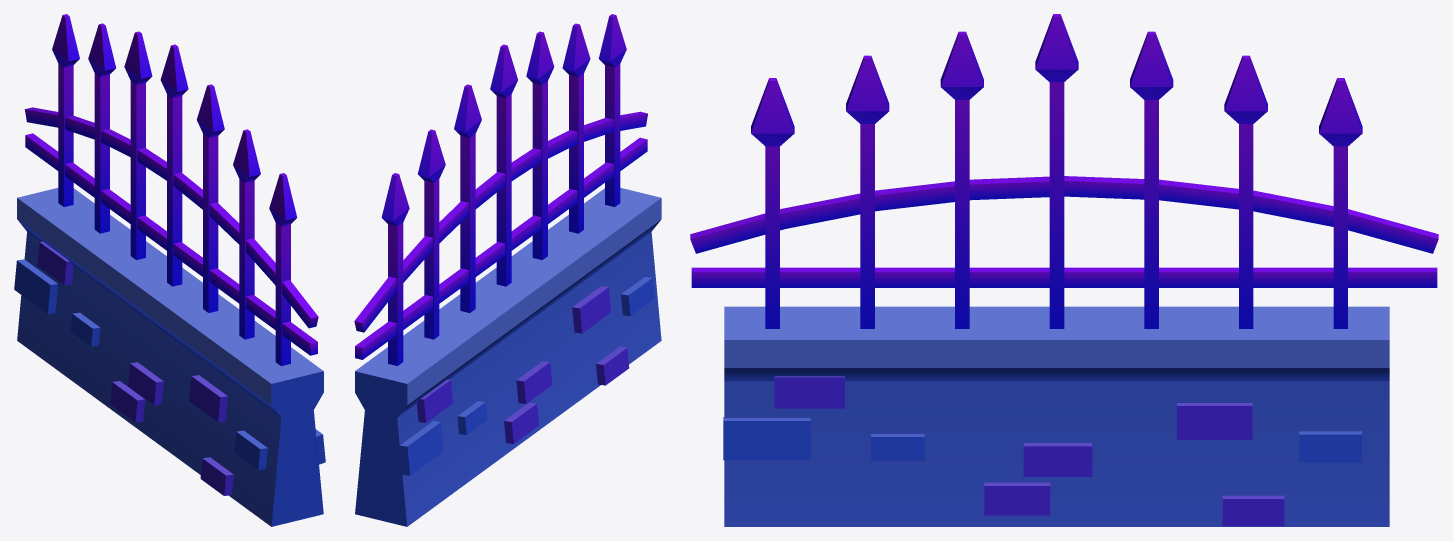
The model's file is short_wall_01.fbx.
3 renders of one model, left to right at view 1: azimuth 30°, elevation 25°; view 2: azimuth 150°, elevation 25°; view 3: azimuth 270°, elevation 25°, orthographic. The views are drawn at different scales.
Parts seen in each view (by area): view 1: short_wall_01; view 2: short_wall_01; view 3: short_wall_01.
Boxes of the visible parts, bbox=[...] form: short_wall_01: bbox=[14, 14, 325, 526]; short_wall_01: bbox=[354, 14, 661, 526]; short_wall_01: bbox=[690, 14, 1438, 526].
Bounding box in the file's own units: 26.36 × 145 × 198.
1 material, 1 textured.
